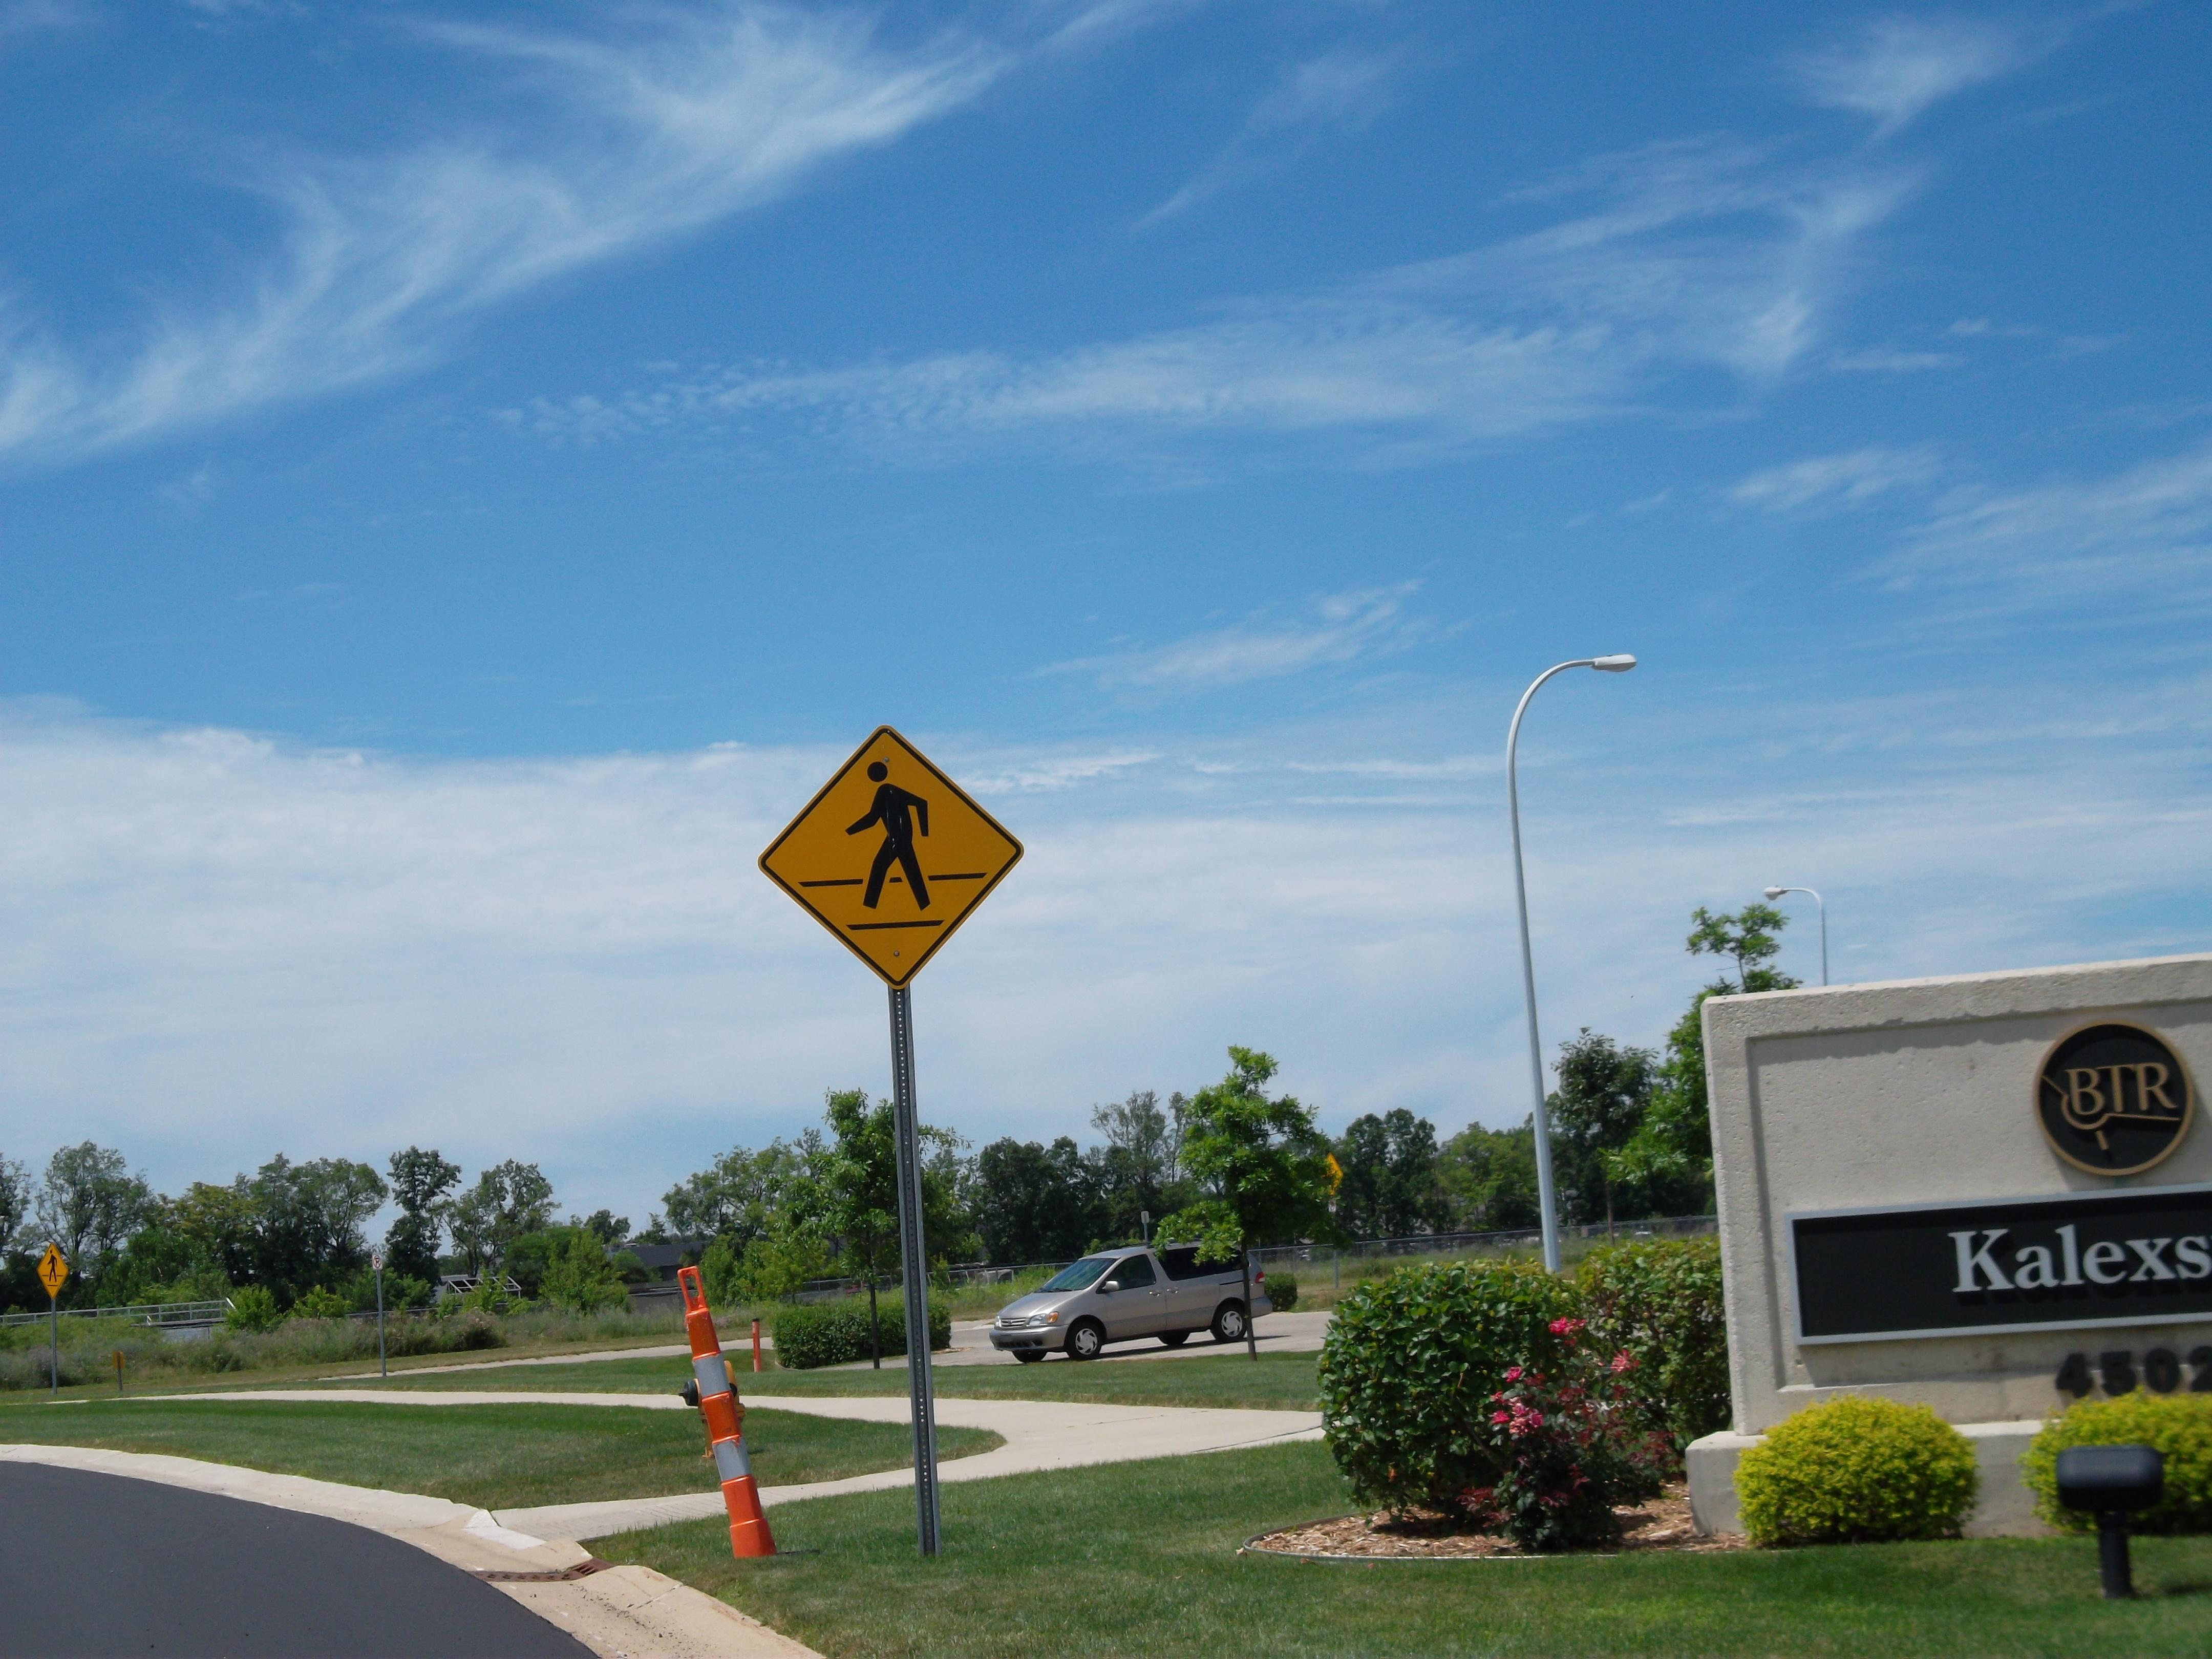warning: (749, 723, 1042, 999)
